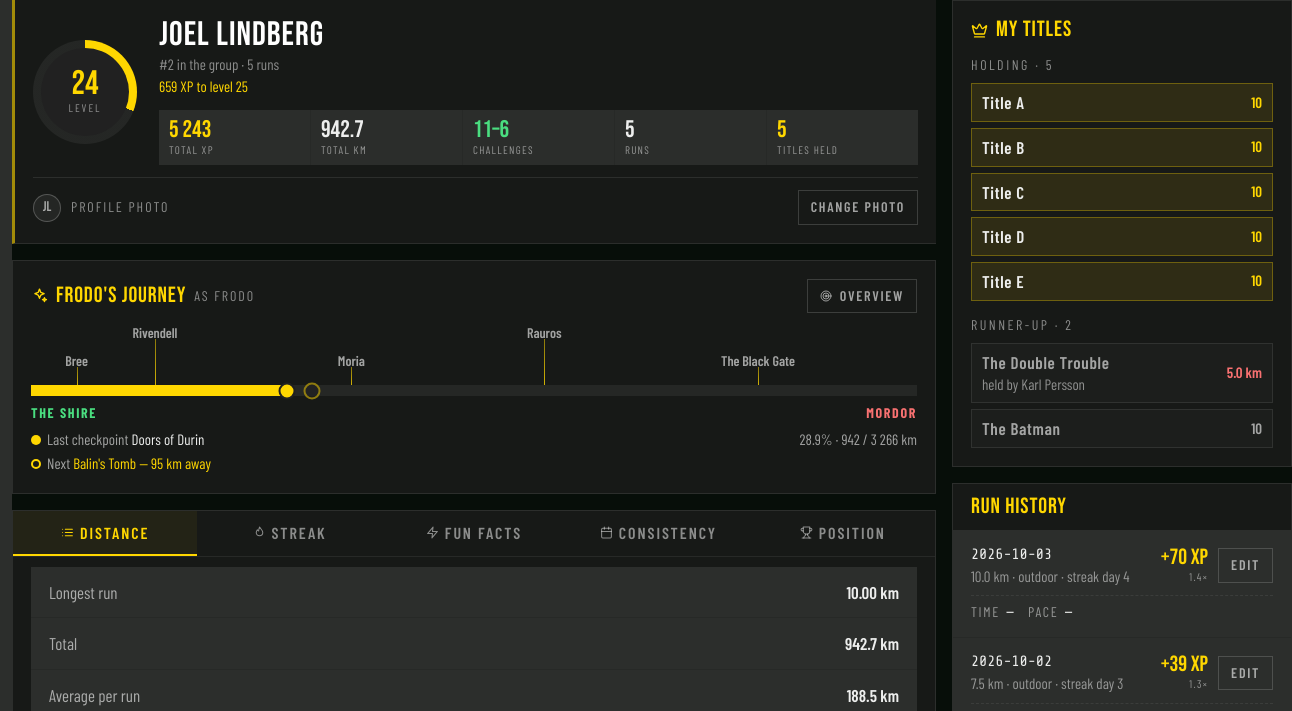
Profile — Frodo-zoom › zoomknappen cyklar Overview → Zoomed → Close-up → Overview; ändetiketter, markörens läge och nästa checkpoint följer med
Check: the heading "Joel Lindberg" is shown, box [159, 18, 324, 52]
Click the button "Overview".
click(862, 296)  # box [807, 279, 917, 313]
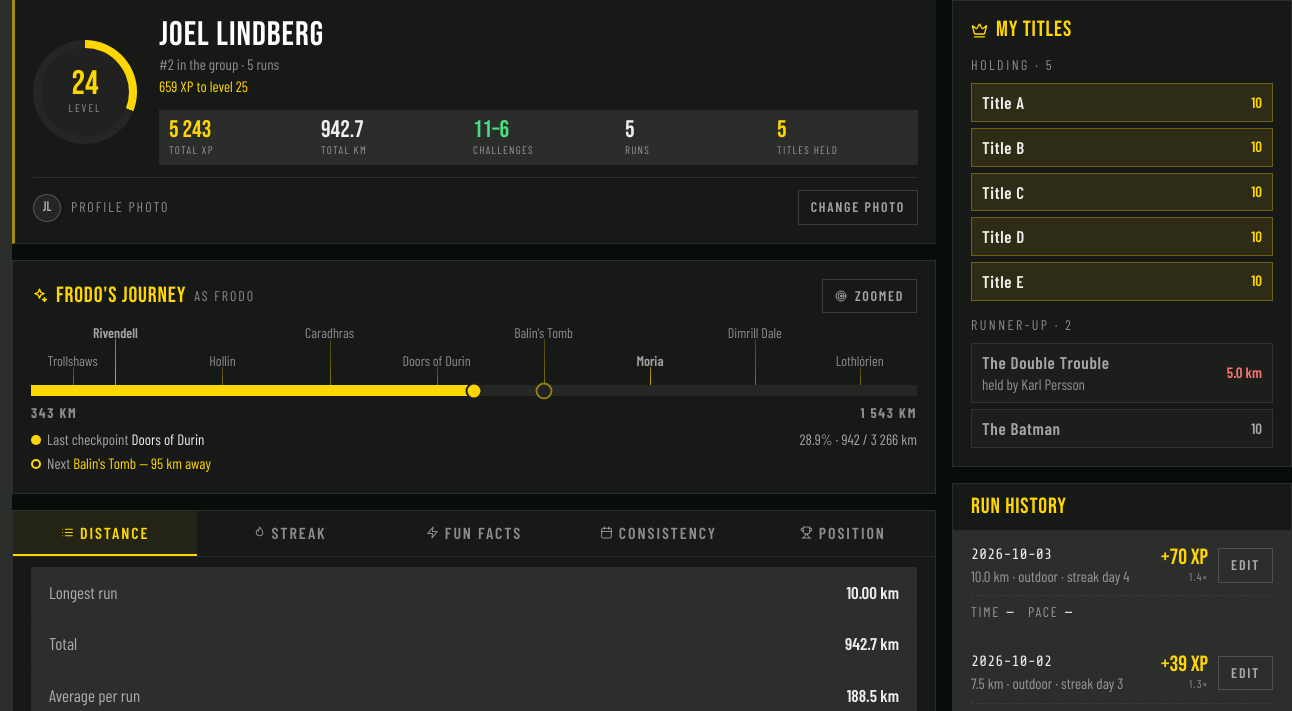
Check: the button "Zoomed" is shown
Click the button "Zoomed".
click(869, 296)  # box [822, 279, 917, 313]
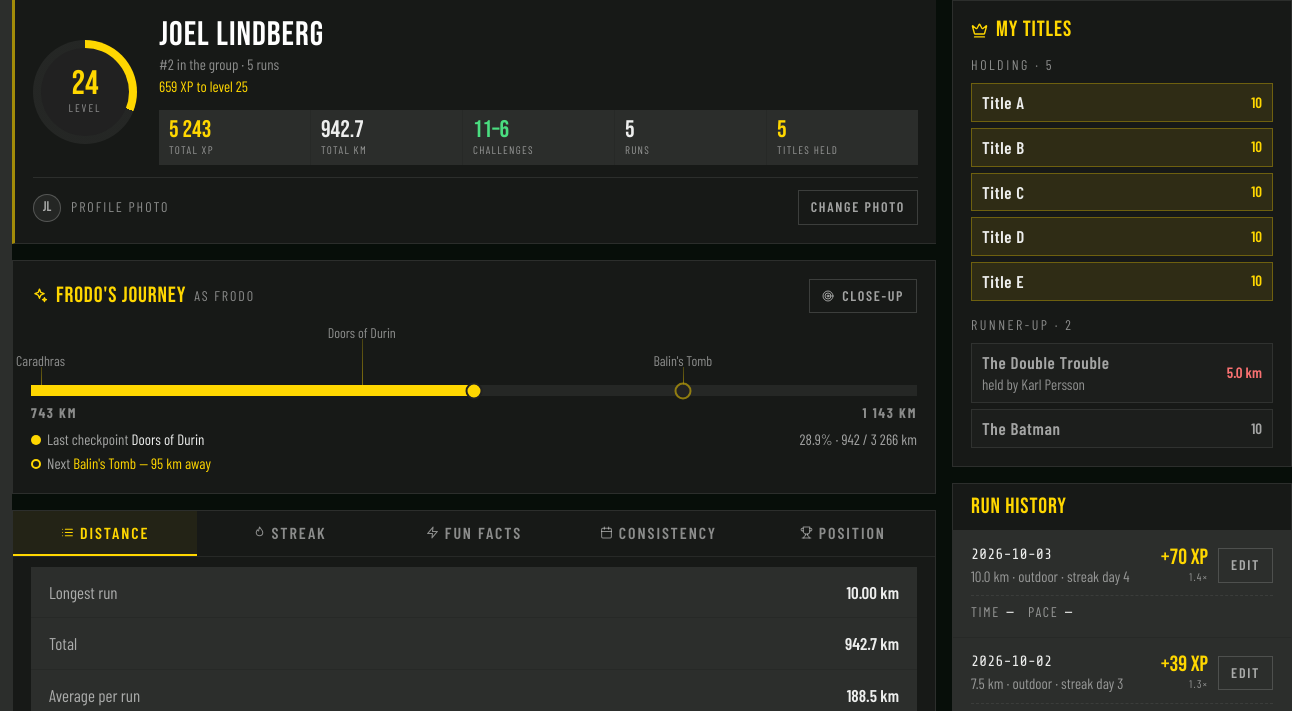
Check: the button "Close-up" is shown
Click the button "Close-up".
click(863, 296)  # box [809, 279, 917, 313]
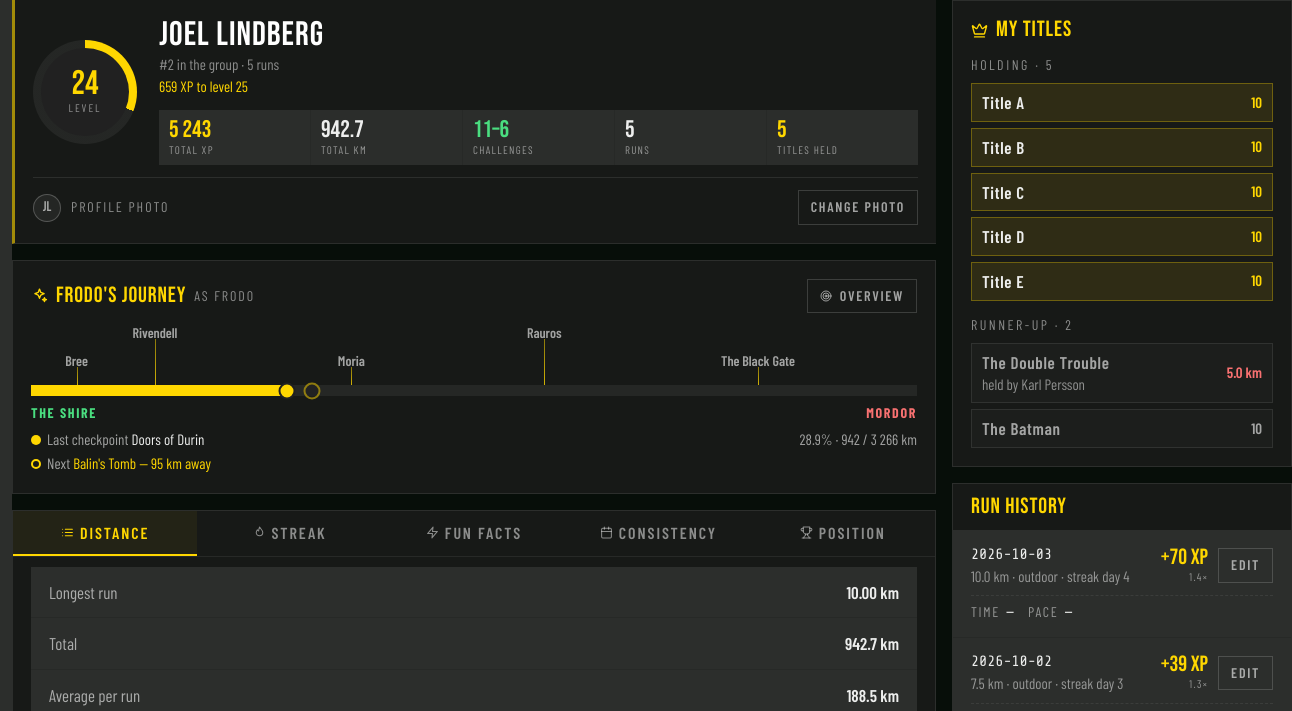
Check: the button "Overview" is shown, box [807, 279, 917, 313]
